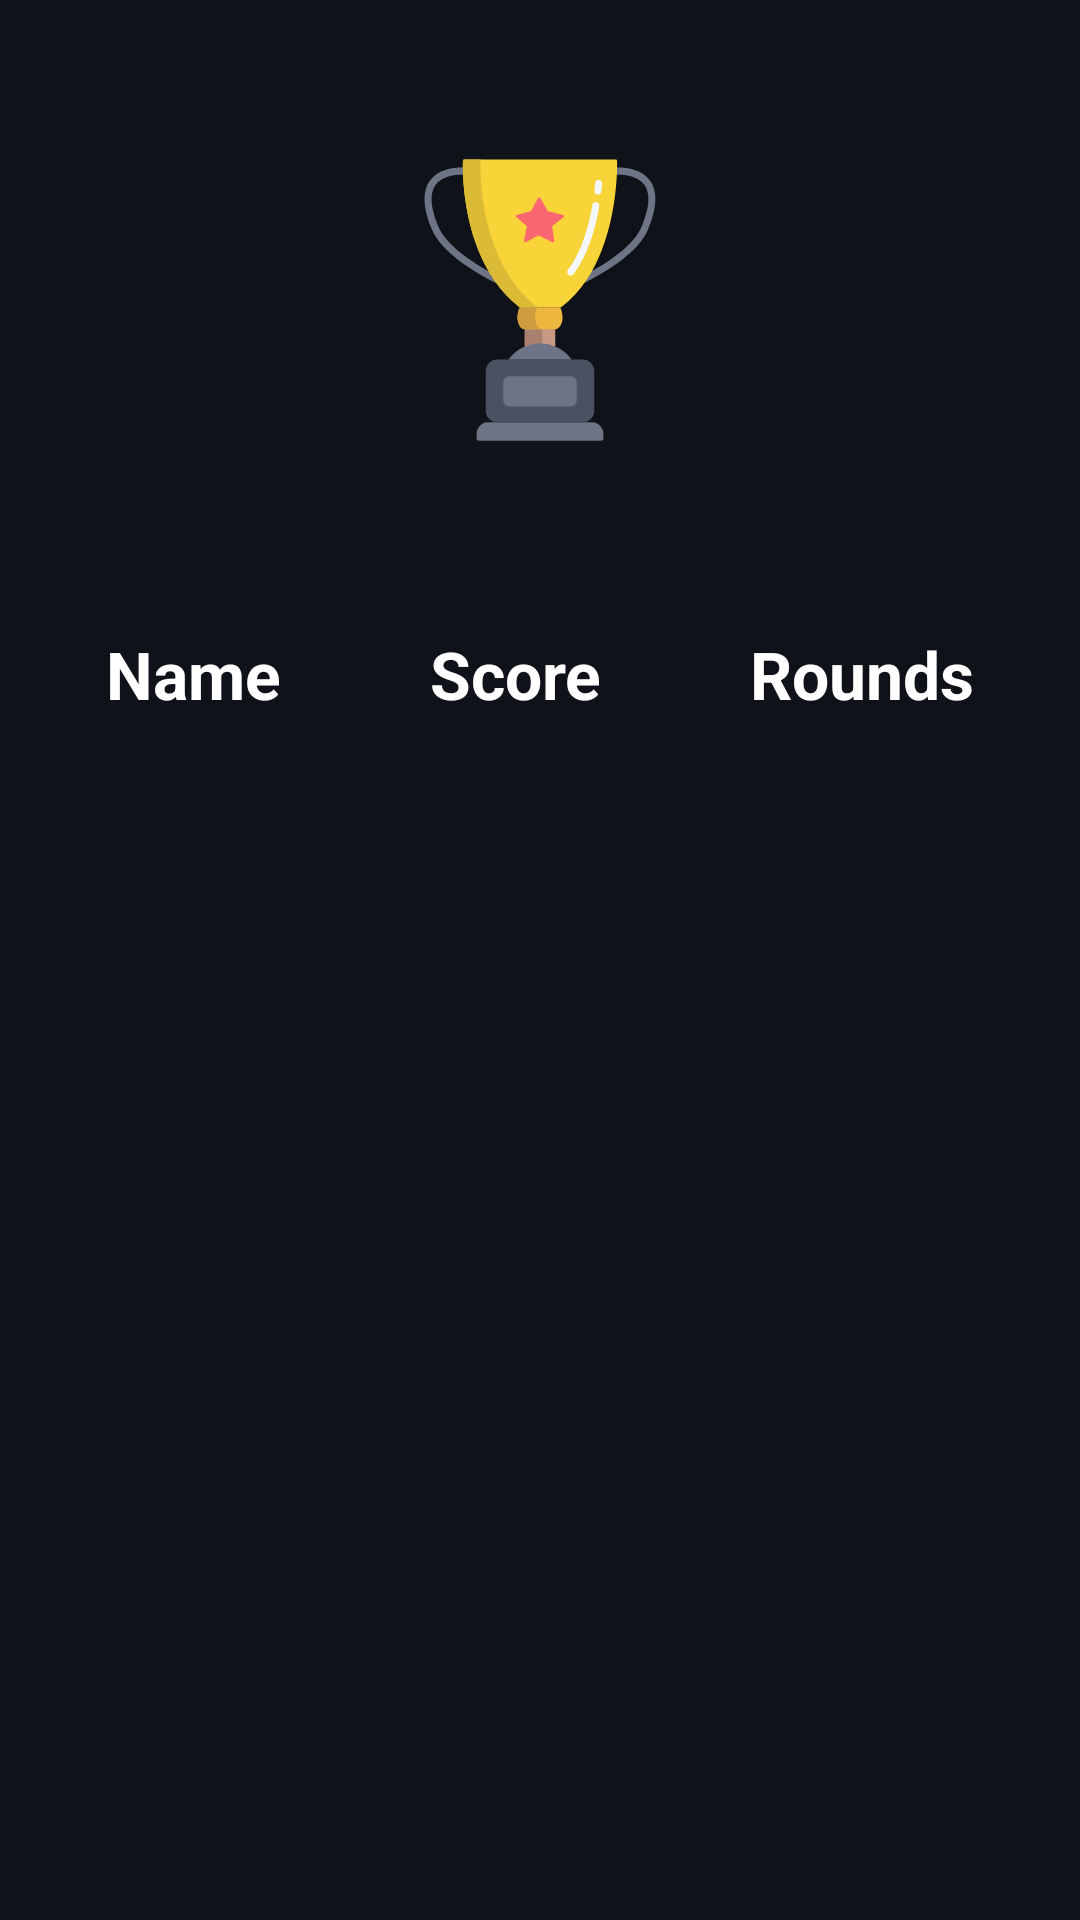

Icons on this 1080px x 1920px Android screen, each with its box as (x1, y1, x2, y2):
trophy: (424, 159, 656, 441)
